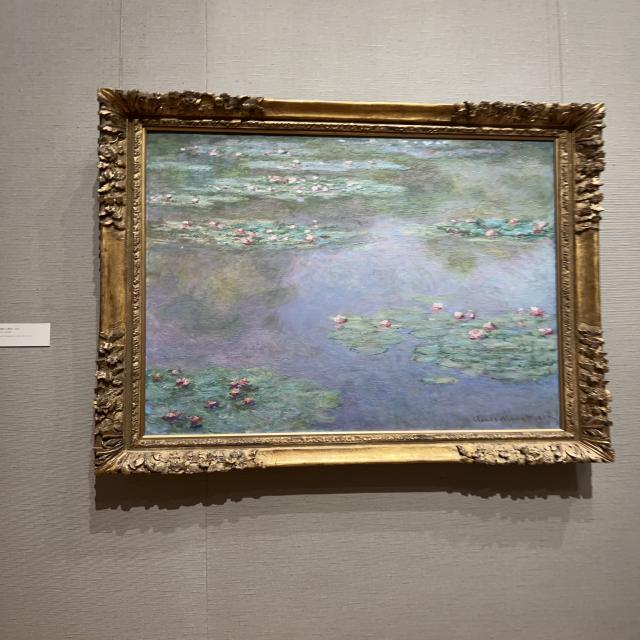lilies: (144, 132, 559, 435)
